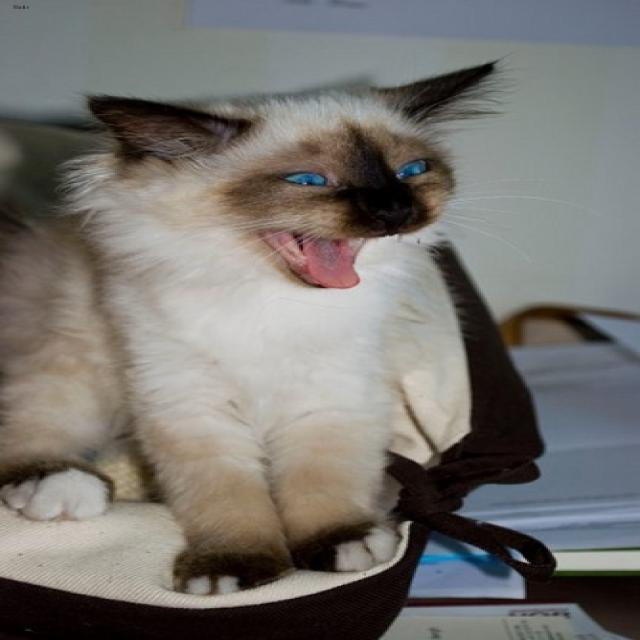Birman: (84, 62, 489, 290)
